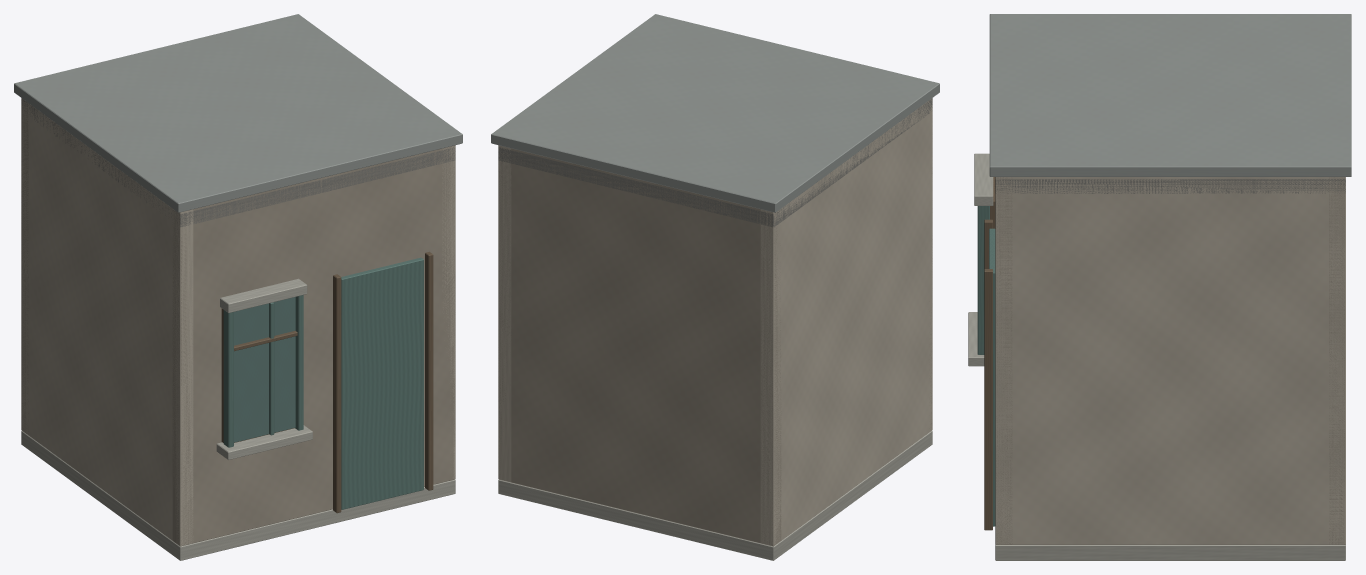
The model's file is U06_RoofAddition_visual.glb.
3 renders of one model, left to right at view 1: azimuth 30°, elevation 25°; view 2: azimuth 150°, elevation 25°; view 3: azimuth 270°, elevation 25°, orthographic. The views are drawn at different scales.
Visible parts, largest first — view 1: U06_RoofAddition__VIS_shell, U06_RoofAddition__VIS_roof; view 2: U06_RoofAddition__VIS_shell, U06_RoofAddition__VIS_roof; view 3: U06_RoofAddition__VIS_shell, U06_RoofAddition__VIS_roof.
Part boxes in pixels (box(x1,y1,x2,y2)): U06_RoofAddition__VIS_shell: box(21, 98, 455, 560); U06_RoofAddition__VIS_roof: box(14, 14, 462, 227); U06_RoofAddition__VIS_shell: box(498, 98, 932, 560); U06_RoofAddition__VIS_roof: box(491, 14, 939, 227); U06_RoofAddition__VIS_shell: box(968, 153, 1345, 560); U06_RoofAddition__VIS_roof: box(989, 14, 1351, 193).
Size of the model in its own units: 12.4 by 15 by 13.13.
1 material, 1 textured.
